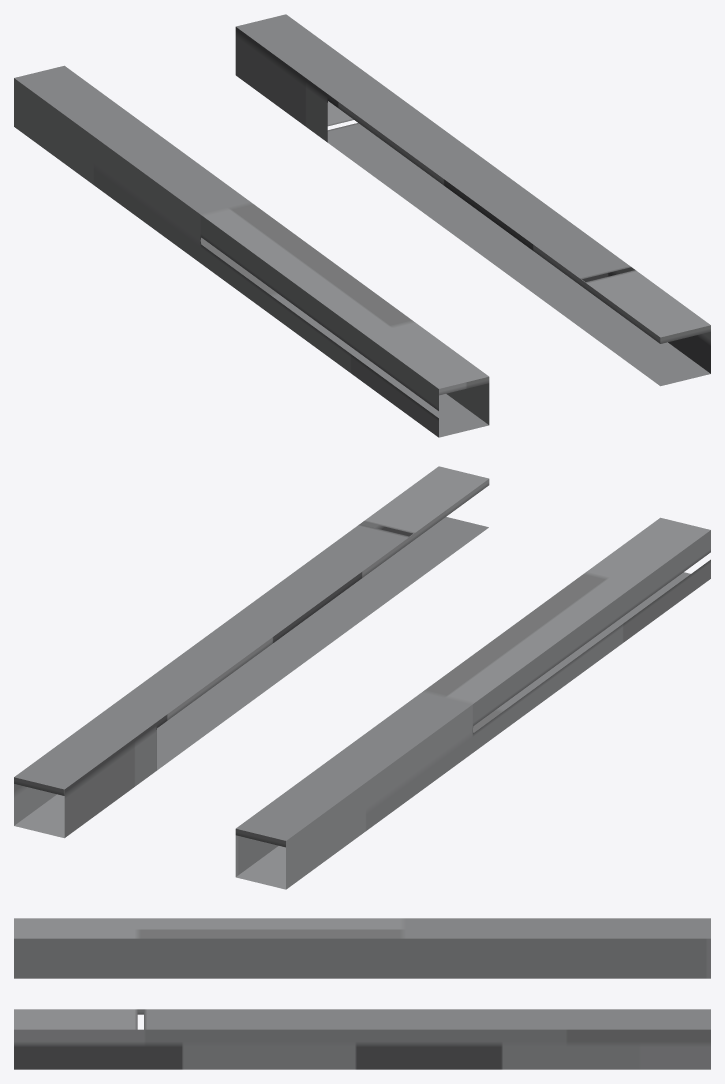
The picture shows the model from 3 angles, top to bottom: view 1: azimuth 30°, elevation 25°; view 2: azimuth 150°, elevation 25°; view 3: azimuth 270°, elevation 25°; orthographic projection. The views are drawn at different scales.
Size of the model in its own units: 0.906 by 0.1635 by 2.45.
